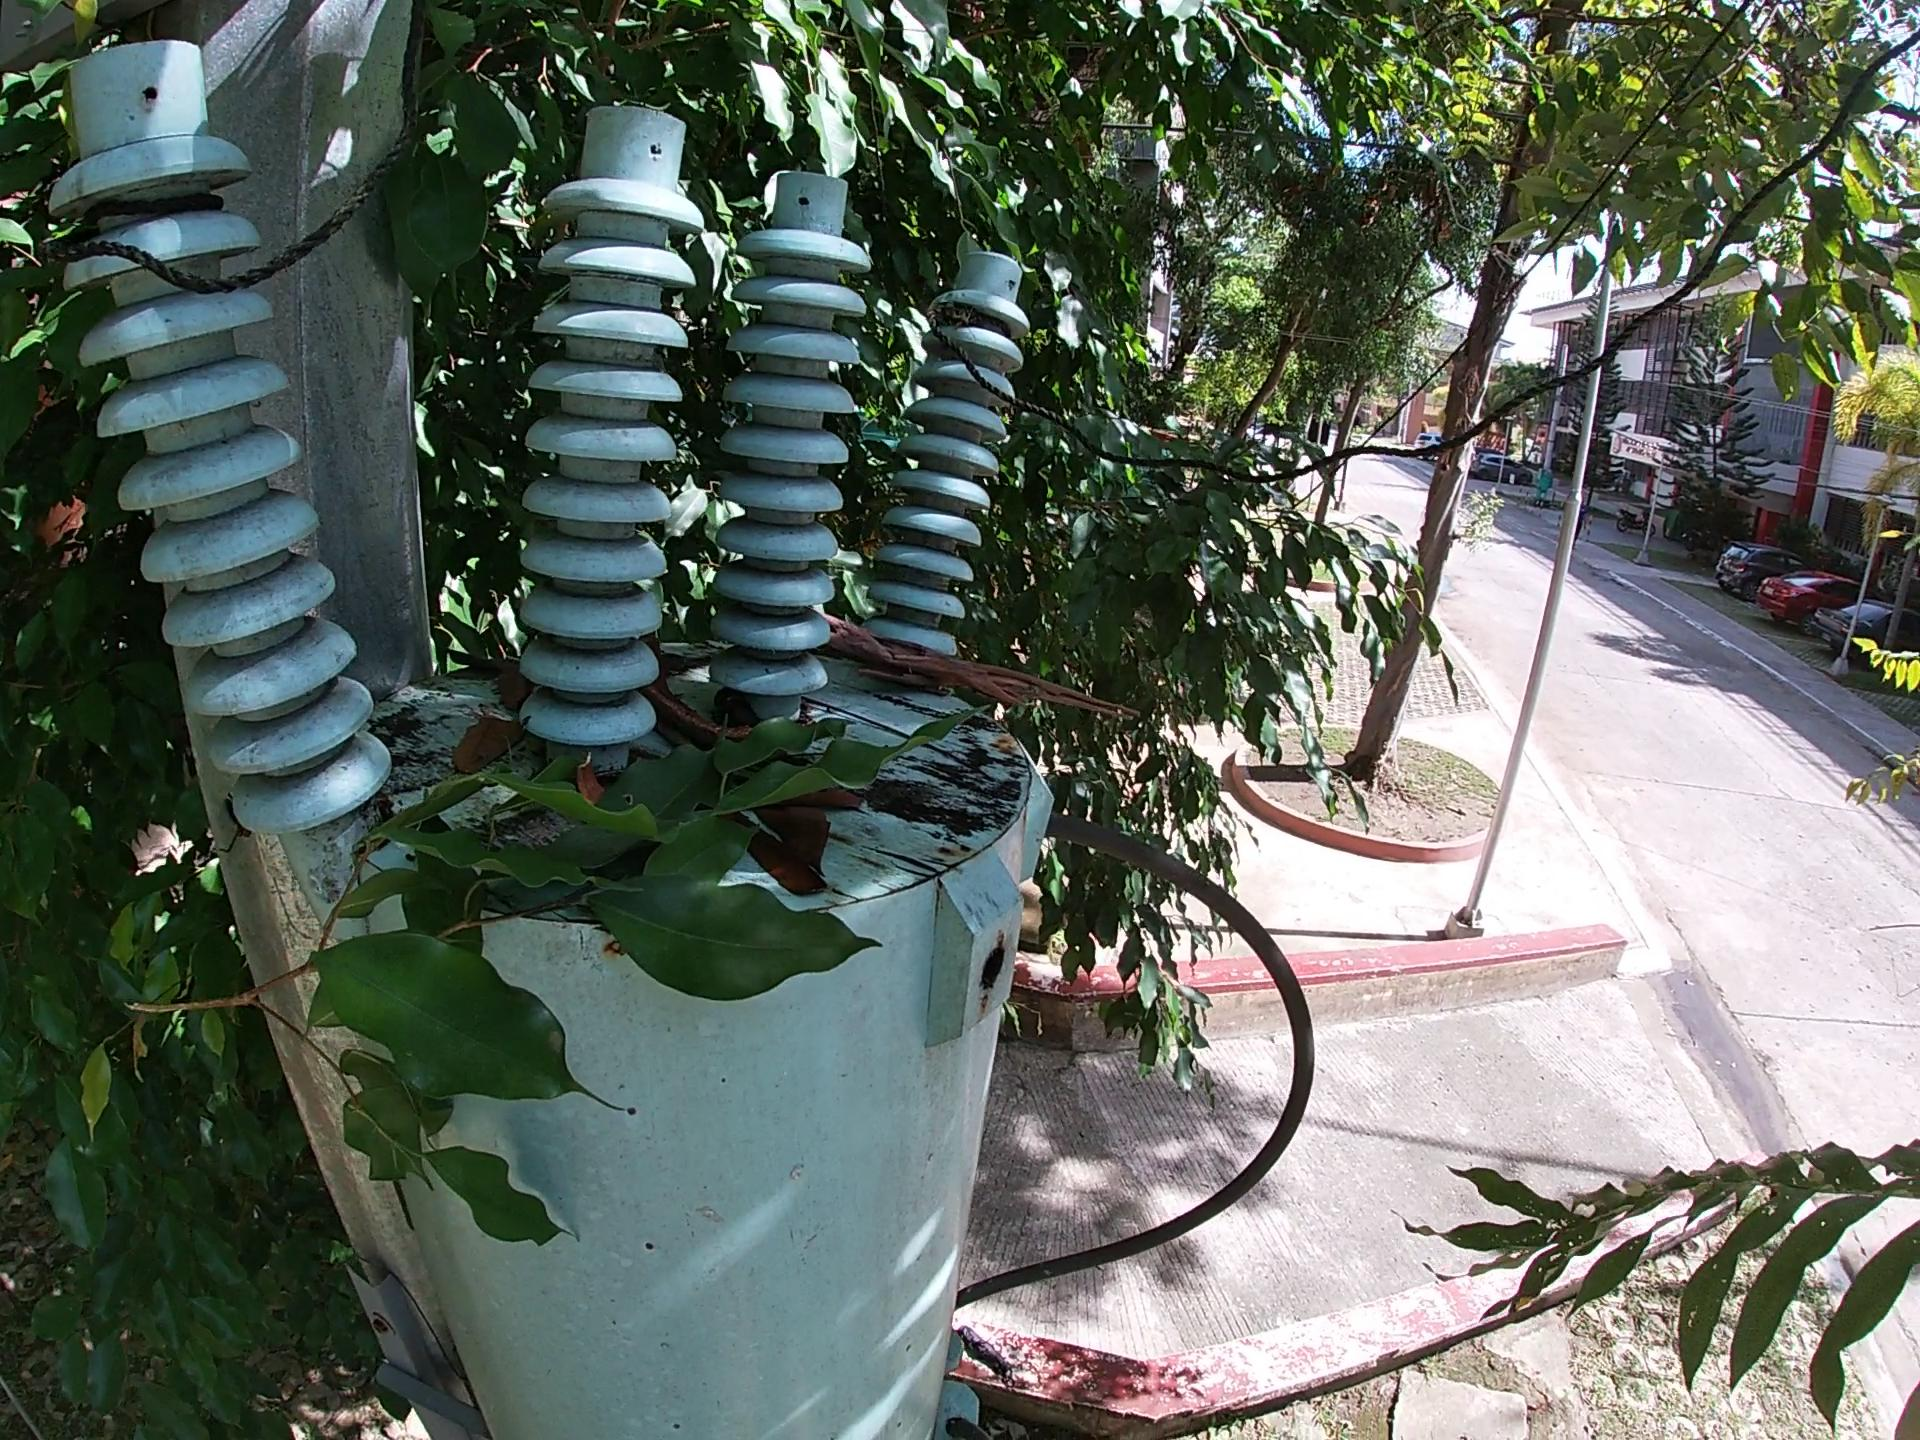branch with leaves: (119, 702, 993, 1254)
leaf: (723, 812, 830, 898), (745, 799, 838, 882), (447, 712, 531, 781), (494, 650, 540, 722), (789, 787, 887, 815)
mahogany fruit: (633, 628, 756, 746), (568, 752, 605, 808)
tree branch: (809, 610, 1150, 734)
